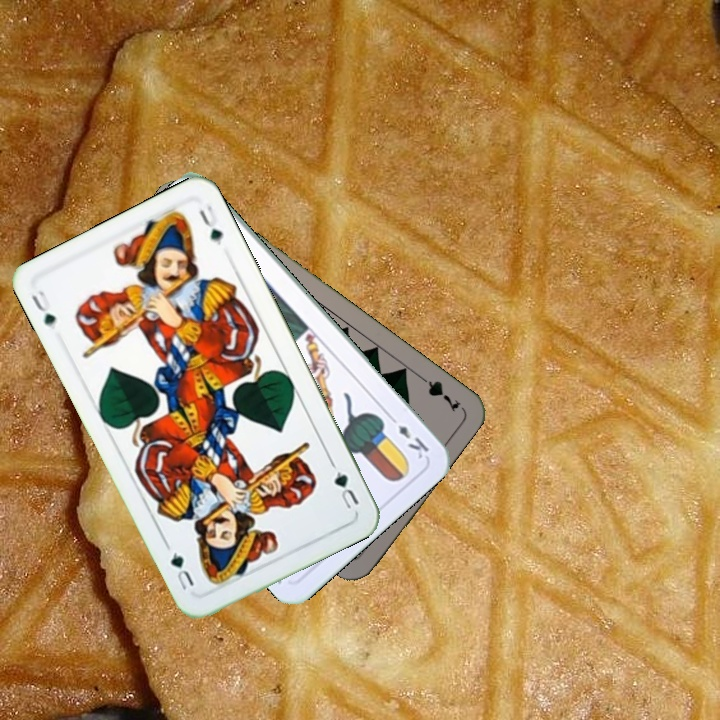EK: (384, 410, 432, 462)
G7: (412, 369, 463, 415)
GU: (327, 458, 362, 512), (27, 286, 60, 333)
